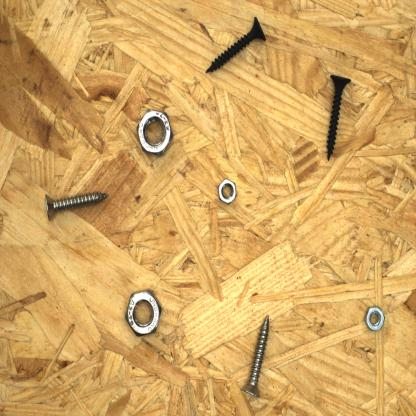screw: (203, 13, 268, 78), (236, 310, 272, 400), (324, 69, 357, 164), (40, 186, 114, 225)
